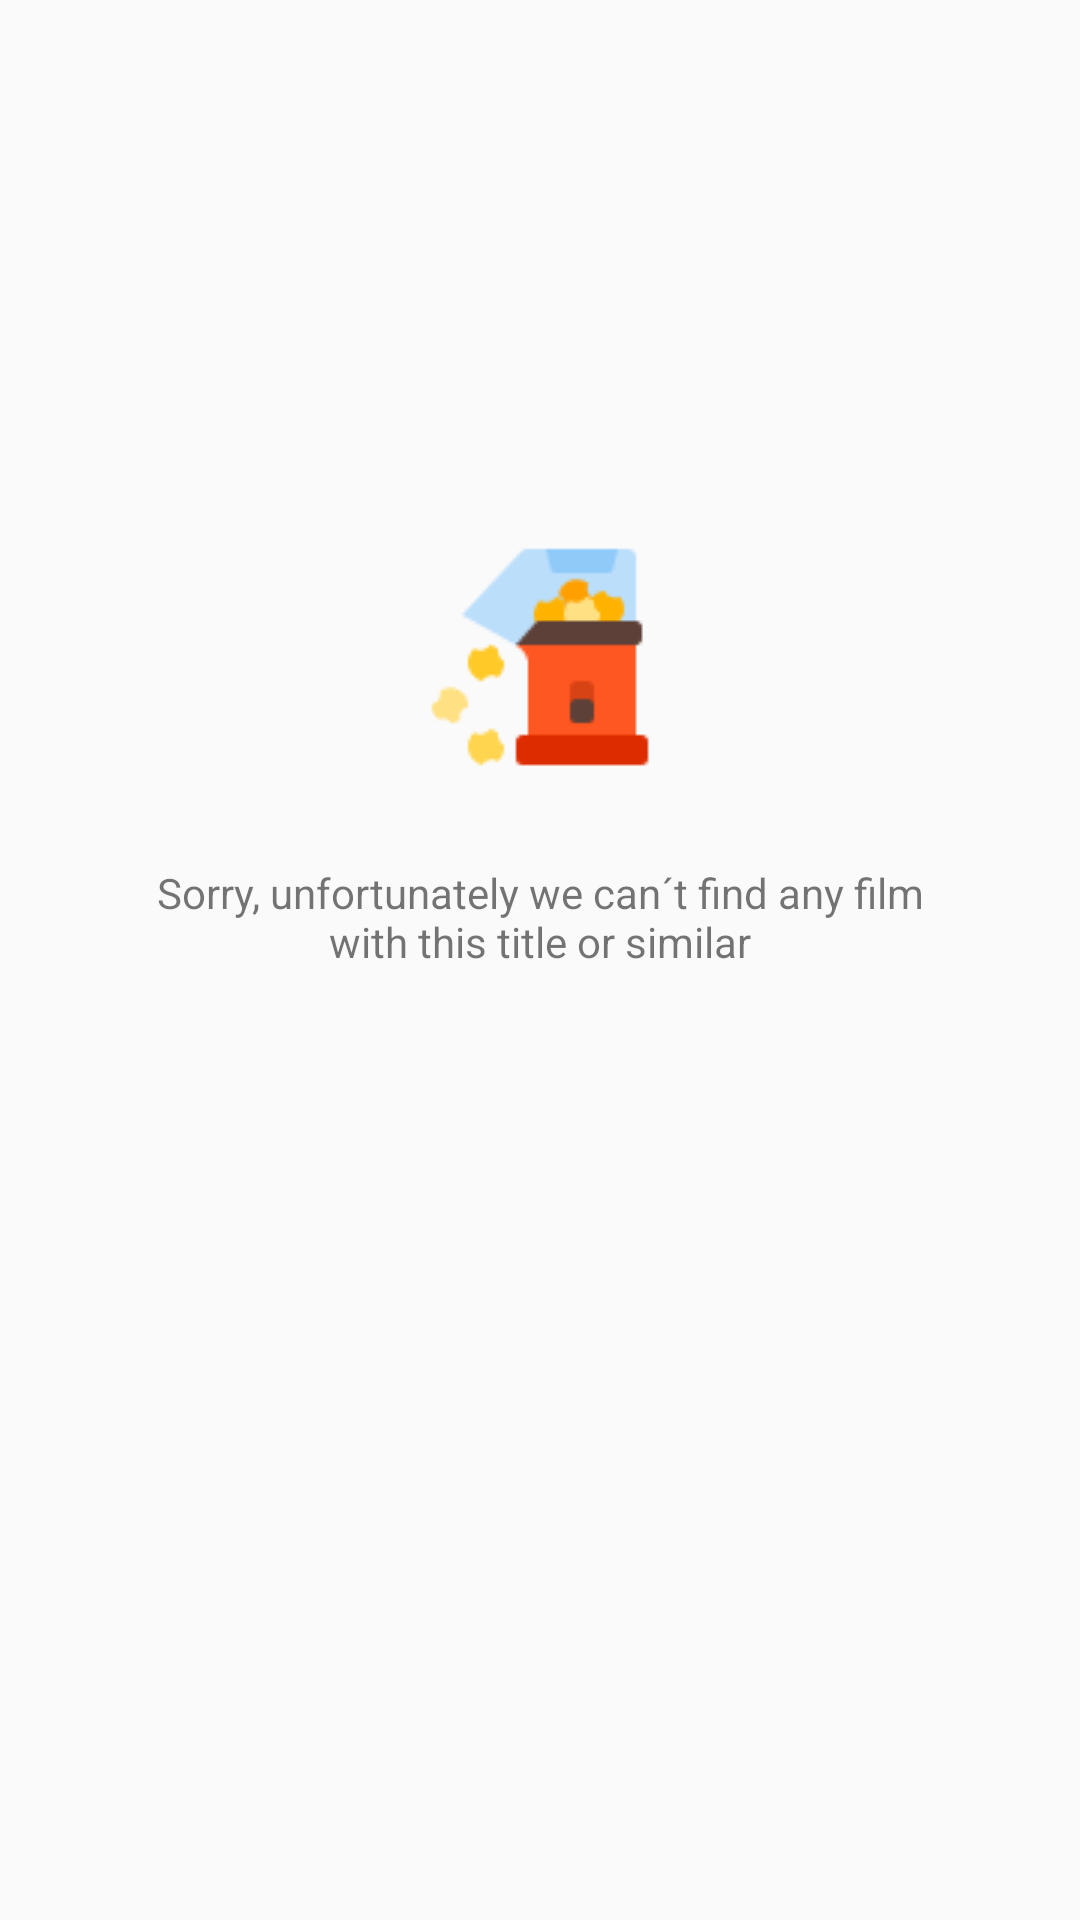

Icon bounding boxes for this 1080x1920 phone screenshot, format Rect(x1, y1, x2, y2):
popcornmachine: Rect(431, 548, 649, 766)
